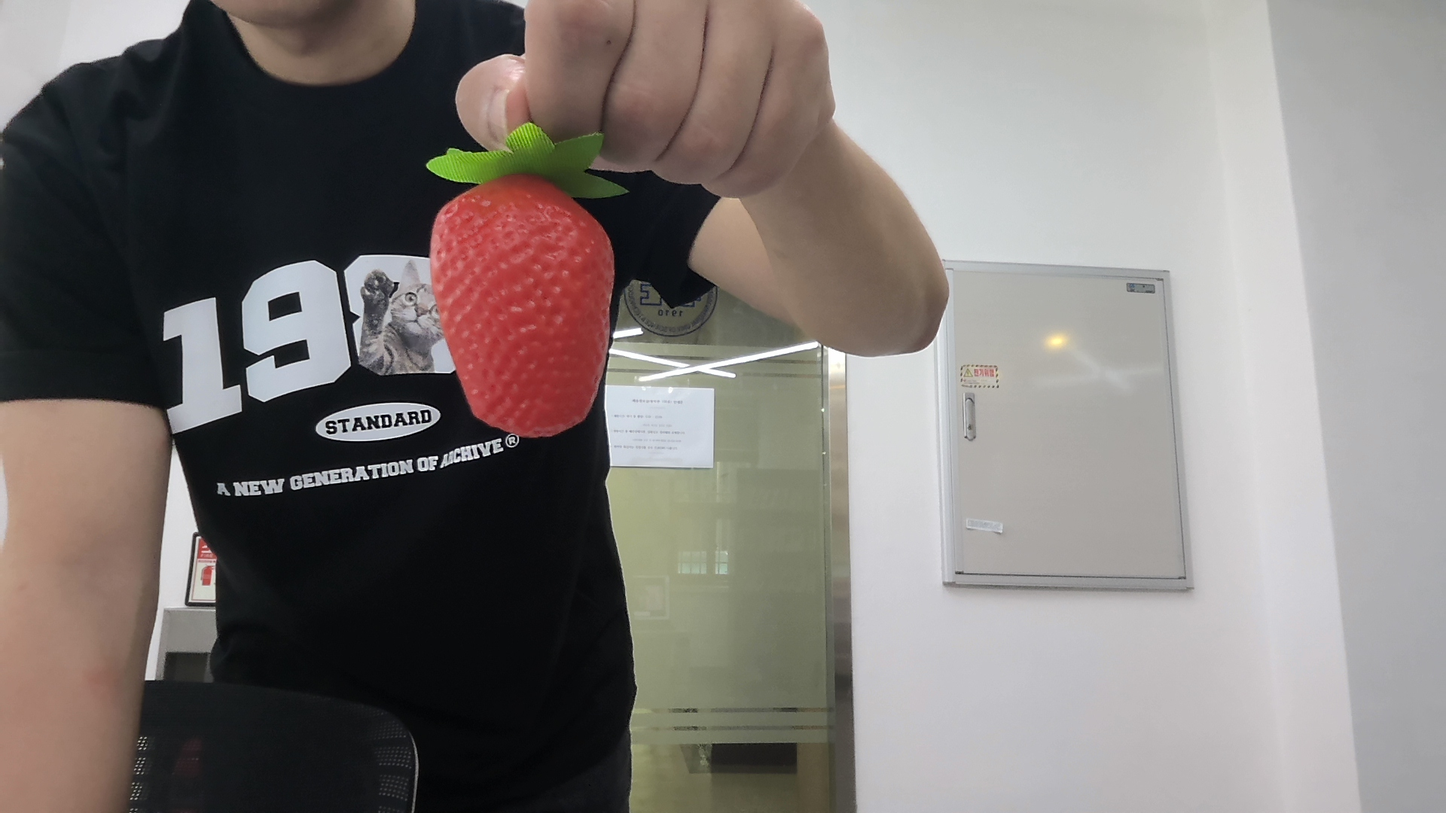strawberry: (407, 167, 630, 442)
